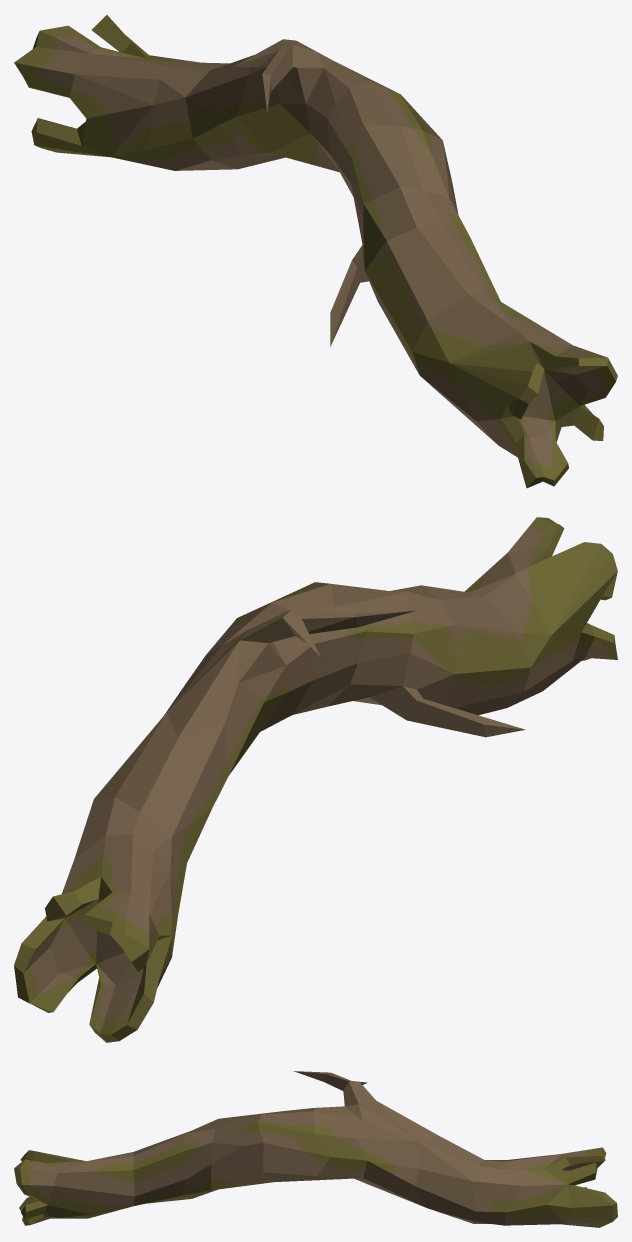
File: bog_log.gltf
3 views of the same model, one above another, from view 1: azimuth 30°, elevation 25°; view 2: azimuth 150°, elevation 25°; view 3: azimuth 270°, elevation 25° (orthographic). The views are drawn at different scales.
Parts seen in each view (by area): view 1: bog_log; view 2: bog_log; view 3: bog_log.
Boxes of the visible parts, bbox=[...] form: bog_log: bbox=[14, 15, 617, 488]; bog_log: bbox=[14, 517, 617, 1042]; bog_log: bbox=[14, 1071, 617, 1227].
Size of the model in its own units: 1.22 by 1.58 by 5.74.
1 material, 1 textured.
